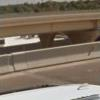Bridge: (4, 4, 99, 58)
